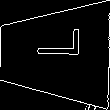L_W: (29, 38, 81, 70)
